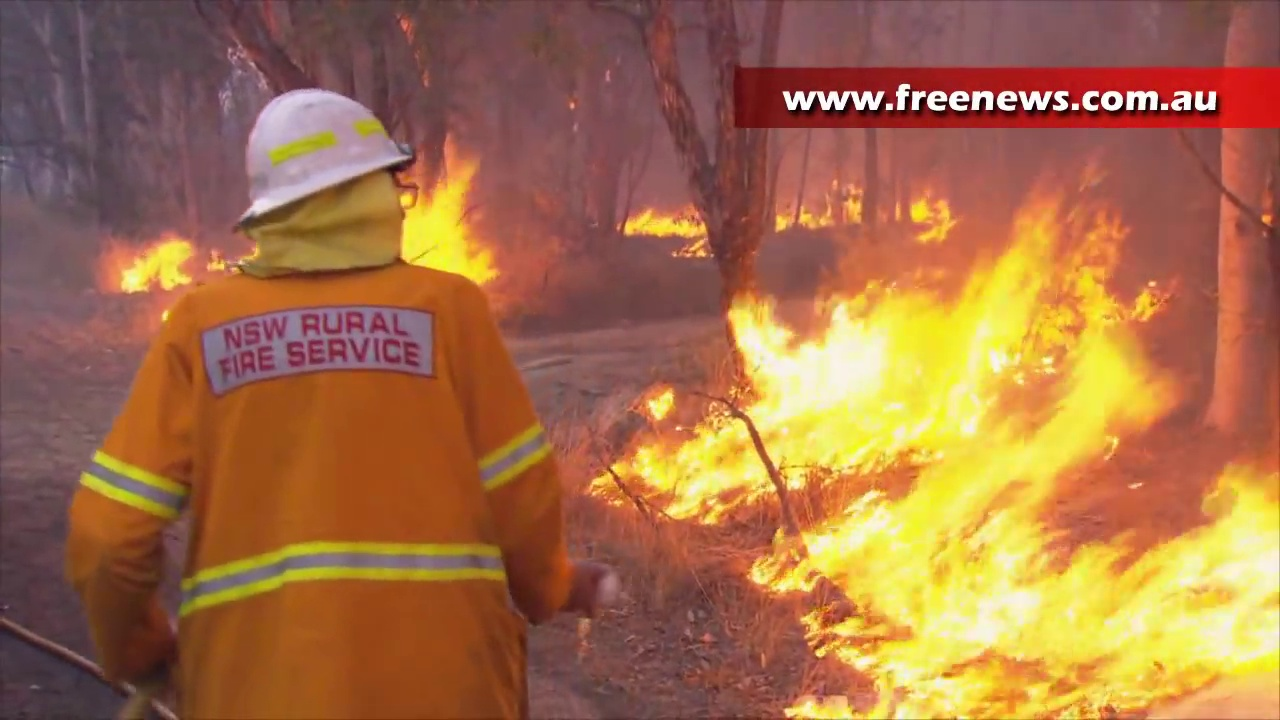fire: (602, 255, 1276, 720), (399, 171, 489, 280), (120, 241, 196, 288), (620, 212, 701, 238), (910, 193, 950, 238), (774, 210, 827, 230)
